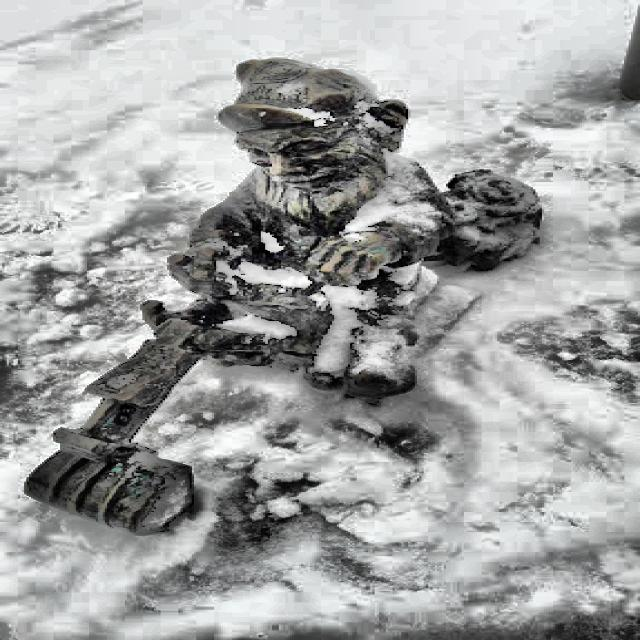Koparkus: (27, 59, 538, 534)
